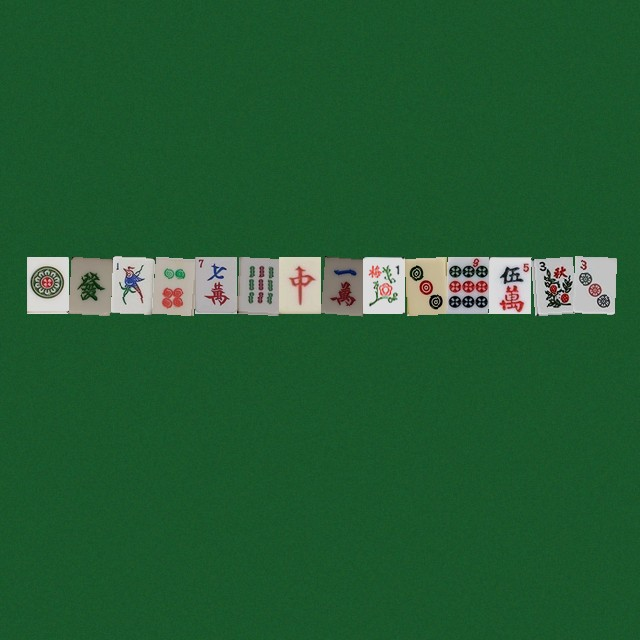tile: (26, 256, 68, 313), (68, 256, 110, 313), (110, 256, 152, 313), (152, 256, 194, 313), (194, 256, 236, 313), (236, 256, 278, 313), (278, 256, 320, 313), (320, 256, 362, 313), (362, 256, 404, 313), (404, 256, 446, 313), (446, 256, 488, 313), (488, 256, 530, 313), (530, 256, 572, 313), (572, 256, 614, 313)
